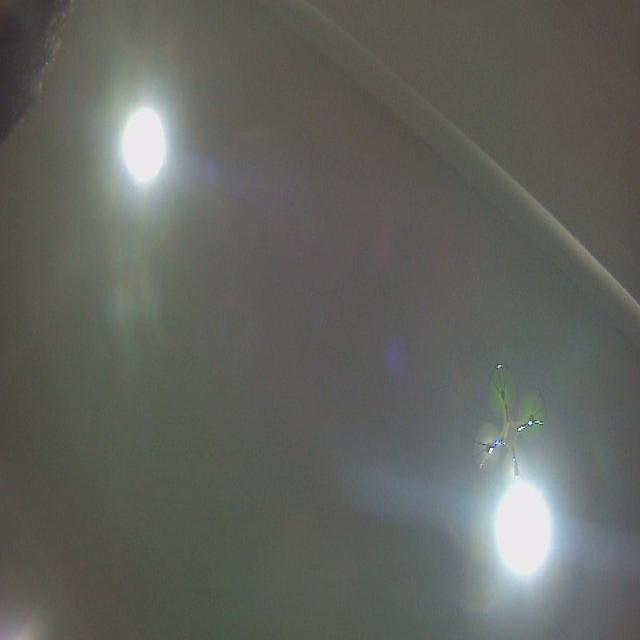drone: (471, 360, 550, 510)
